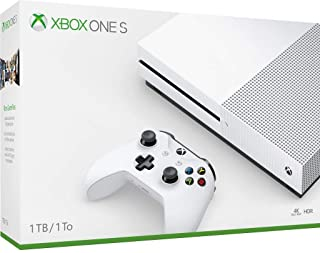gamingconsole: (85, 129, 217, 233)
